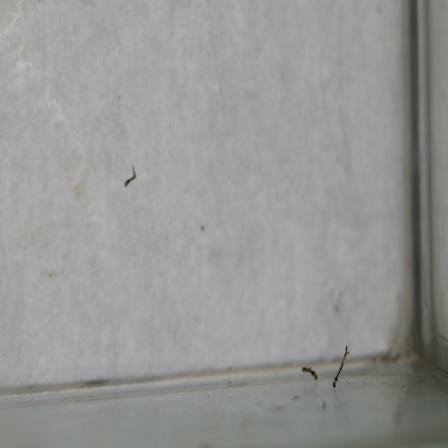Jentik-Nyamuk: (328, 340, 353, 392), (297, 364, 322, 384), (121, 162, 139, 189)
